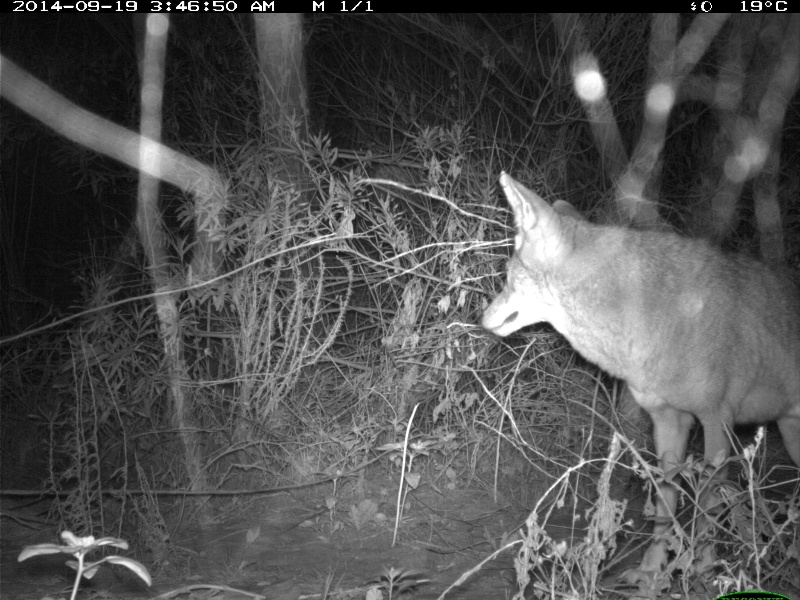coyote: (476, 171, 800, 576)
